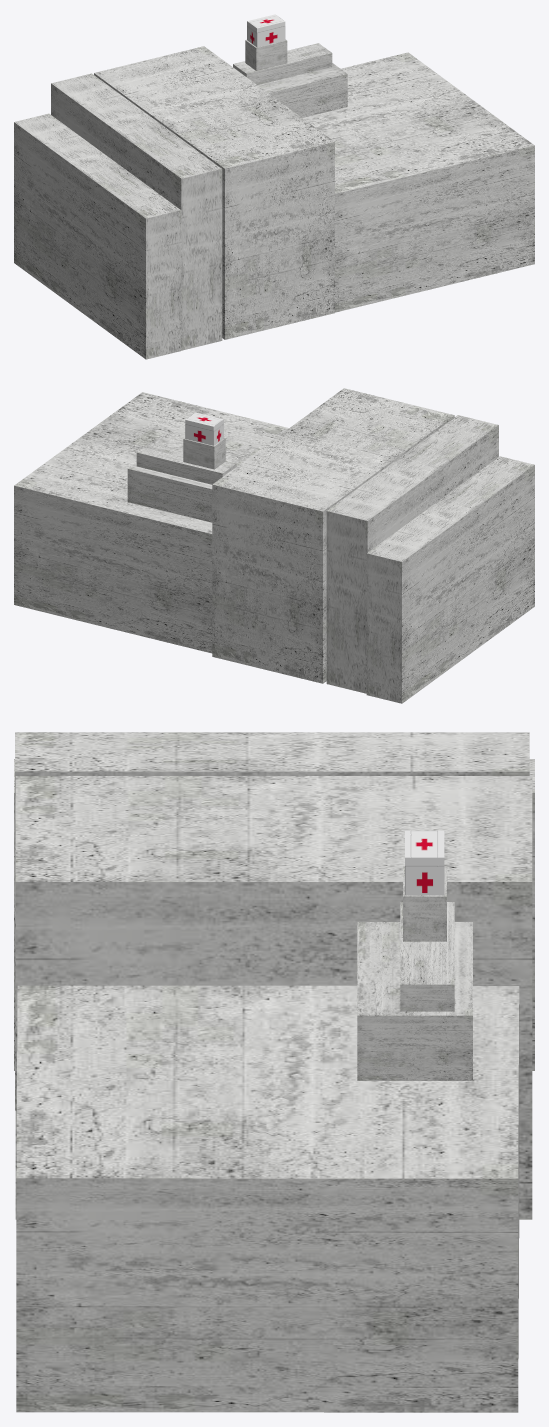
File: hospital.FBX
3 renders of one model, top to bottom at view 1: azimuth 30°, elevation 25°; view 2: azimuth 150°, elevation 25°; view 3: azimuth 270°, elevation 25°, orthographic. The views are drawn at different scales.
Parts seen in each view (by area): view 1: Box001, Box002, Box004, Box003, Box005, Box006, Box008, Box007; view 2: Box001, Box002, Box004, Box003, Box005, Box006, Box007, Box008; view 3: Box001, Box002, Box003, Box005, Box006, Box008, Box007, Box004.
Part boxes in pixels (<box>): Box001: <box>303,52,534,312</box>; Box002: <box>94,46,334,339</box>; Box004: <box>14,113,181,359</box>; Box003: <box>51,73,222,350</box>; Box005: <box>257,63,347,117</box>; Box006: <box>233,43,332,84</box>; Box008: <box>247,14,285,47</box>; Box007: <box>245,39,287,70</box>; Box001: <box>14,392,288,653</box>; Box002: <box>212,388,454,683</box>; Box004: <box>366,456,534,703</box>; Box003: <box>326,415,498,693</box>; Box005: <box>127,462,212,522</box>; Box006: <box>136,442,236,484</box>; Box007: <box>183,438,225,469</box>; Box008: <box>185,412,223,445</box>; Box001: <box>16,985,519,1412</box>; Box002: <box>15,776,532,1219</box>; Box003: <box>15,732,529,1110</box>; Box005: <box>357,922,472,1080</box>; Box006: <box>400,902,454,1011</box>; Box008: <box>405,830,444,895</box>; Box007: <box>403,866,446,941</box>; Box004: <box>14,759,534,1070</box>.
Bounding box in the file's own units: 124 × 62.96 × 72.7.
